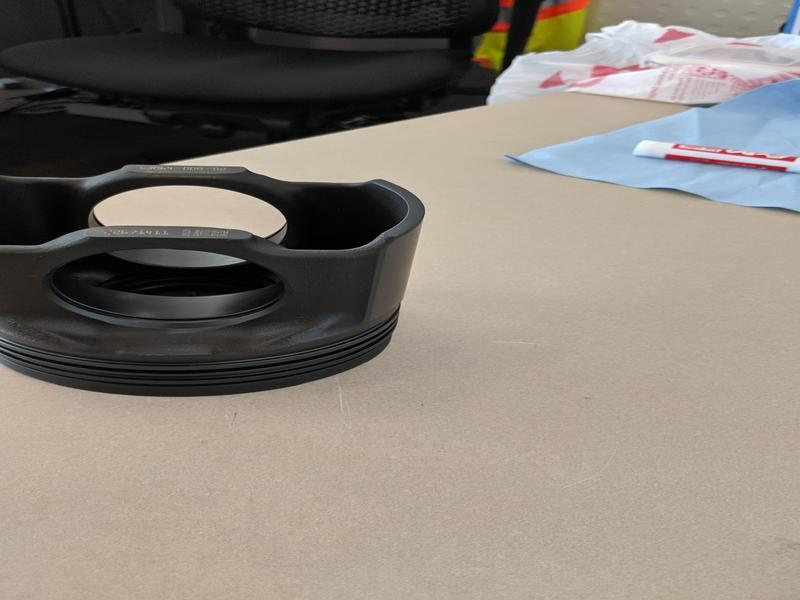piston: (4, 155, 429, 400)
